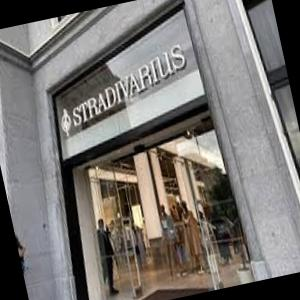stradivarius: (47, 33, 199, 143)
